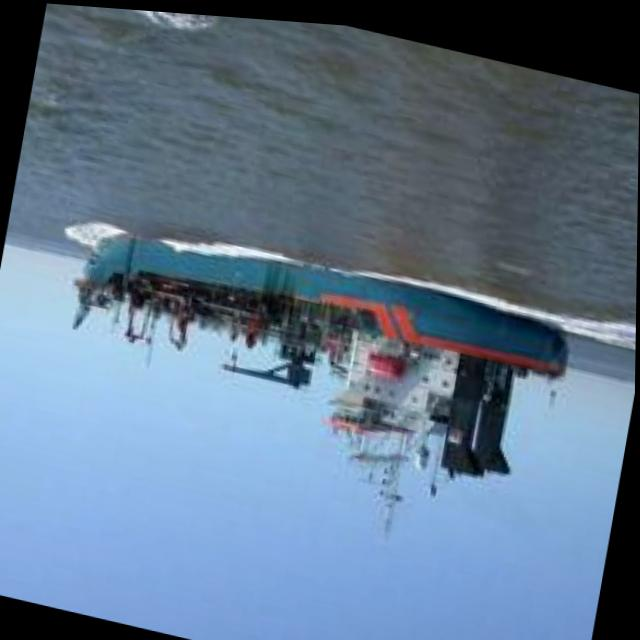ship2: (70, 231, 571, 537)
